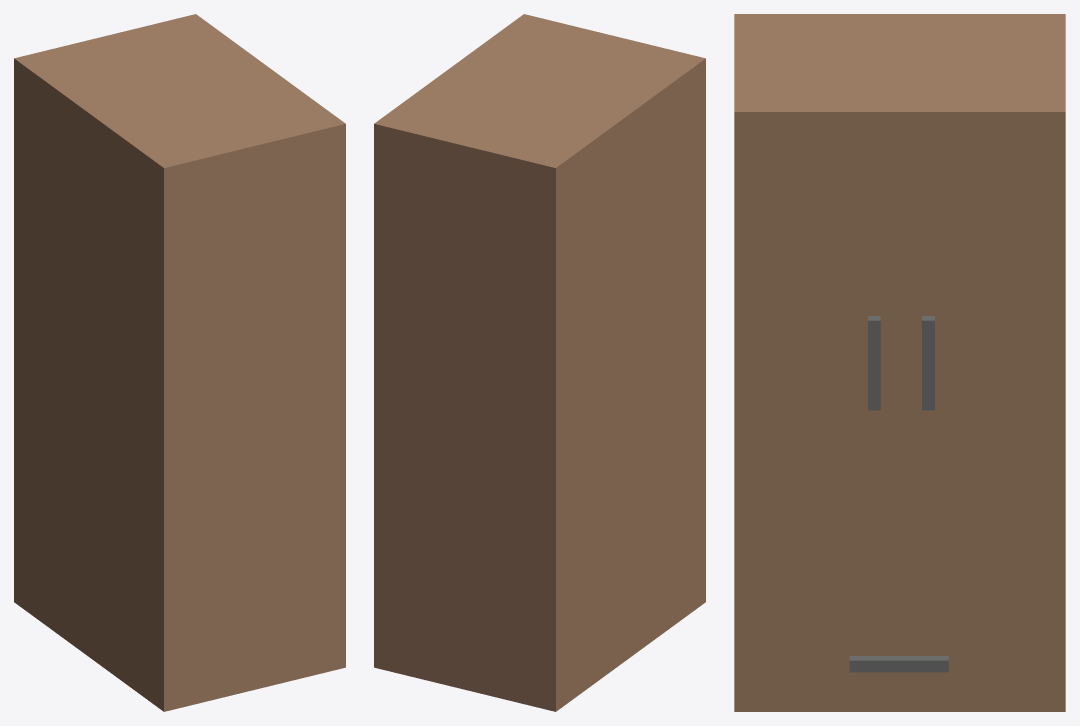
The model's file is Armario.fbx.
3 views of the same model, side by side, from view 1: azimuth 30°, elevation 25°; view 2: azimuth 150°, elevation 25°; view 3: azimuth 270°, elevation 25° (orthographic). The views are drawn at different scales.
Parts seen in each view (by area): view 1: Armario; view 2: Armario; view 3: Armario.
Boxes of the visible parts, x1,y1,x2,y2 form: Armario: (14,14,345,711); Armario: (374,14,705,711); Armario: (734,14,1065,711).
Size of the model in its own units: 74.04 by 200 by 100.
